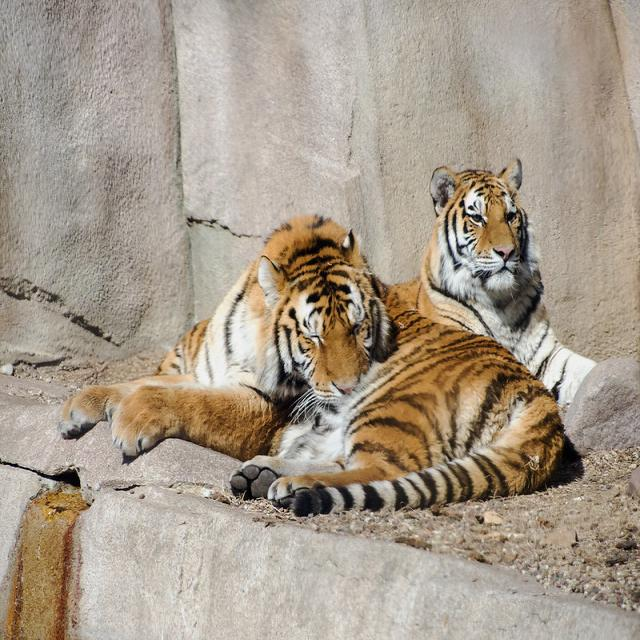Tiger: (95, 199, 572, 551), (393, 155, 594, 416)
